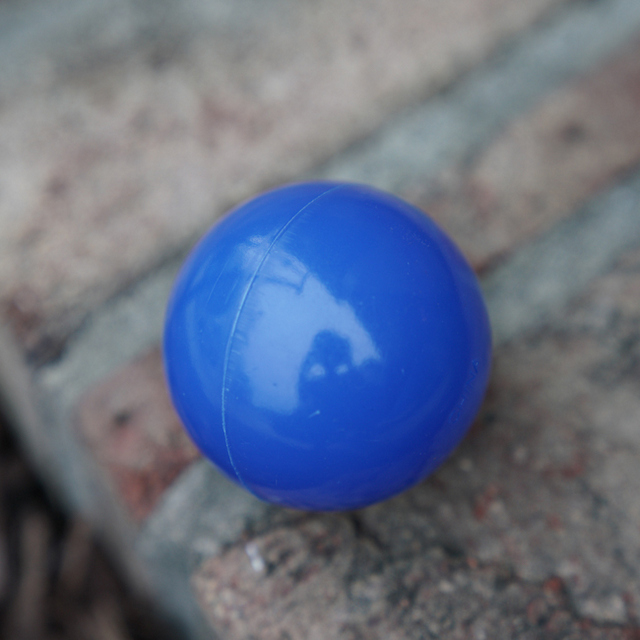Ball: (165, 183, 492, 508)
